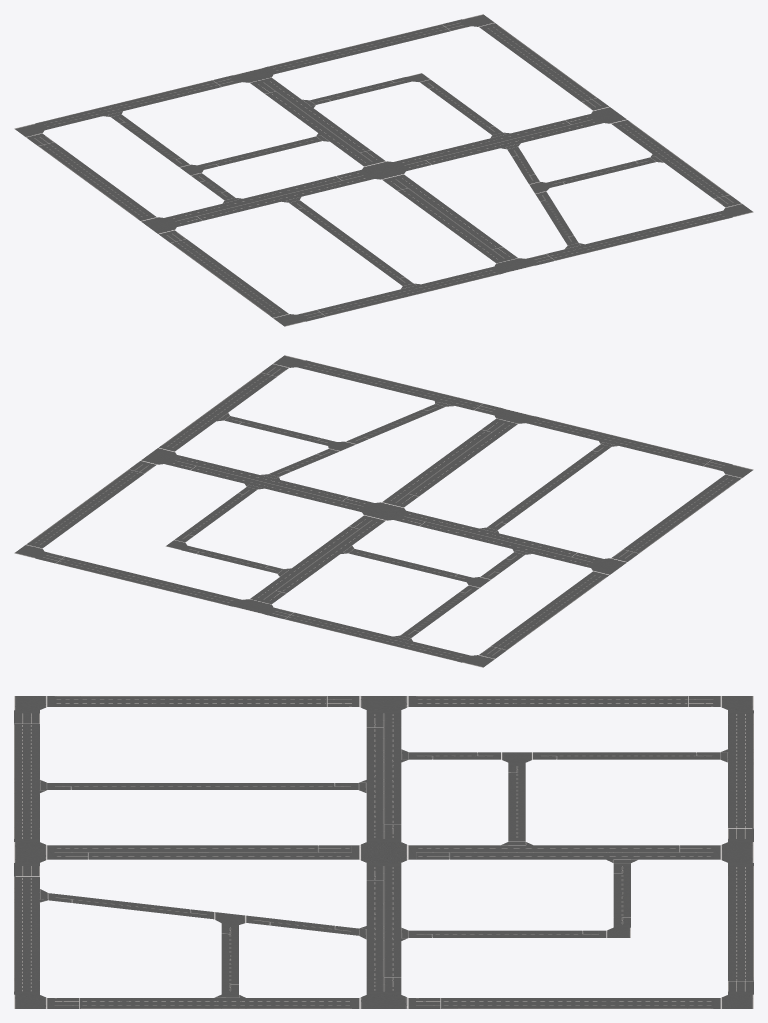
3 renders of one model, top to bottom at view 1: azimuth 30°, elevation 25°; view 2: azimuth 150°, elevation 25°; view 3: azimuth 270°, elevation 25°, orthographic. The views are drawn at different scales.
Parts seen in each view (by area): view 1: RD_65, RD_58, RD_83, RD_35, RD_117, RD_113, RD_8, RD_3, RD_107, RD_14, RD_71, RD_52 (+5 smaller); view 2: RD_65, RD_58, RD_83, RD_35, RD_117, RD_3, RD_113, RD_8, RD_107, RD_14, RD_71, RD_52 (+5 smaller); view 3: RD_65, RD_58, RD_83, RD_35, RD_107, RD_71, RD_52, RD_14, RD_117, RD_113, RD_8, RD_3 (+20 smaller).
Part boxes in pixels (box(x1,y1,x2,y2)): RD_65: box(420, 120, 576, 164); RD_58: box(191, 176, 347, 220); RD_83: box(398, 185, 502, 251); RD_35: box(265, 89, 369, 155); RD_117: box(547, 212, 727, 260); RD_113: box(318, 267, 498, 316); RD_8: box(269, 24, 449, 73); RD_3: box(40, 80, 220, 128); RD_107: box(614, 122, 729, 198); RD_14: box(38, 142, 153, 218); RD_71: box(171, 239, 285, 315); RD_52: box(482, 25, 596, 101); RD_65: box(191, 461, 347, 505); RD_58: box(420, 517, 576, 561); RD_83: box(398, 430, 502, 496); RD_35: box(265, 526, 369, 592); RD_117: box(301, 361, 482, 410); RD_3: box(285, 612, 466, 661); RD_113: box(530, 417, 711, 465); RD_8: box(56, 557, 237, 605); RD_107: box(161, 373, 276, 449); RD_14: box(491, 573, 606, 649); RD_71: box(623, 476, 738, 552); RD_52: box(29, 470, 144, 546); RD_65: box(366, 880, 401, 976); RD_58: box(366, 728, 401, 824); RD_83: box(89, 845, 317, 859); RD_35: box(450, 845, 678, 859); RD_107: box(80, 998, 351, 1008); RD_71: box(54, 696, 325, 706); RD_52: box(442, 998, 713, 1008); RD_14: box(416, 696, 687, 706); RD_117: box(14, 877, 39, 991); RD_113: box(14, 724, 39, 838); RD_8: box(728, 866, 753, 980); RD_3: box(728, 713, 753, 827).
Size of the model in its own units: 984 by 0 by 984.
